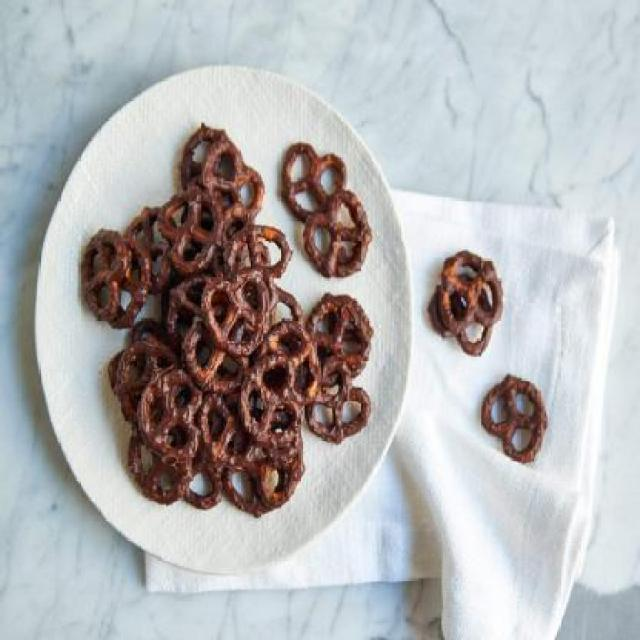Salatini packaged: (77, 123, 377, 517), (427, 250, 550, 468)
